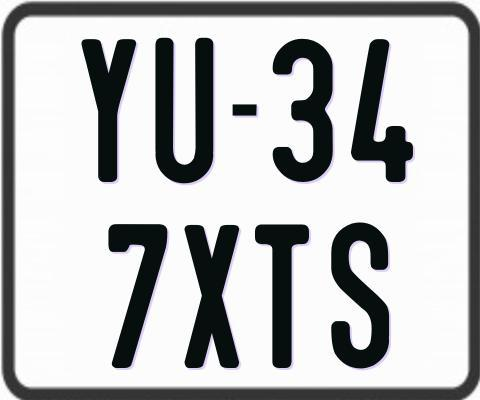3: (270, 38, 330, 182)
4: (350, 39, 416, 184)
7: (106, 223, 167, 371)
S: (331, 221, 392, 368)
T: (255, 222, 311, 370)
U: (152, 36, 212, 182)
X: (182, 223, 237, 368)
Y: (79, 39, 133, 184)
